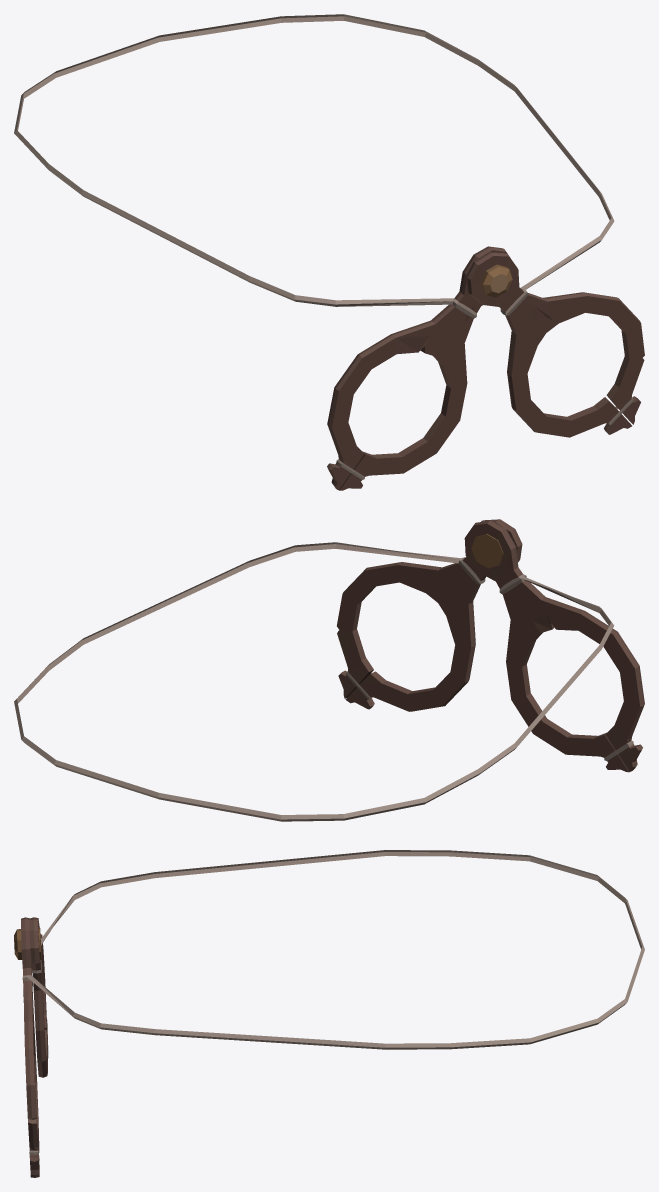
Rendered from venetianSpectacles.glb.
3 renders of one model, top to bottom at view 1: azimuth 30°, elevation 25°; view 2: azimuth 150°, elevation 25°; view 3: azimuth 270°, elevation 25°, orthographic. The views are drawn at different scales.
Parts seen in each view (by area): view 1: venetianSpectacles; view 2: venetianSpectacles; view 3: venetianSpectacles.
Boxes of the visible parts, x1=… form: venetianSpectacles: x1=14, y1=14, x2=644, y2=490; venetianSpectacles: x1=14, y1=519, x2=644, y2=821; venetianSpectacles: x1=14, y1=850, x2=644, y2=1177.
Size of the model in its own units: 0.2257 by 0.1071 by 0.3071.
